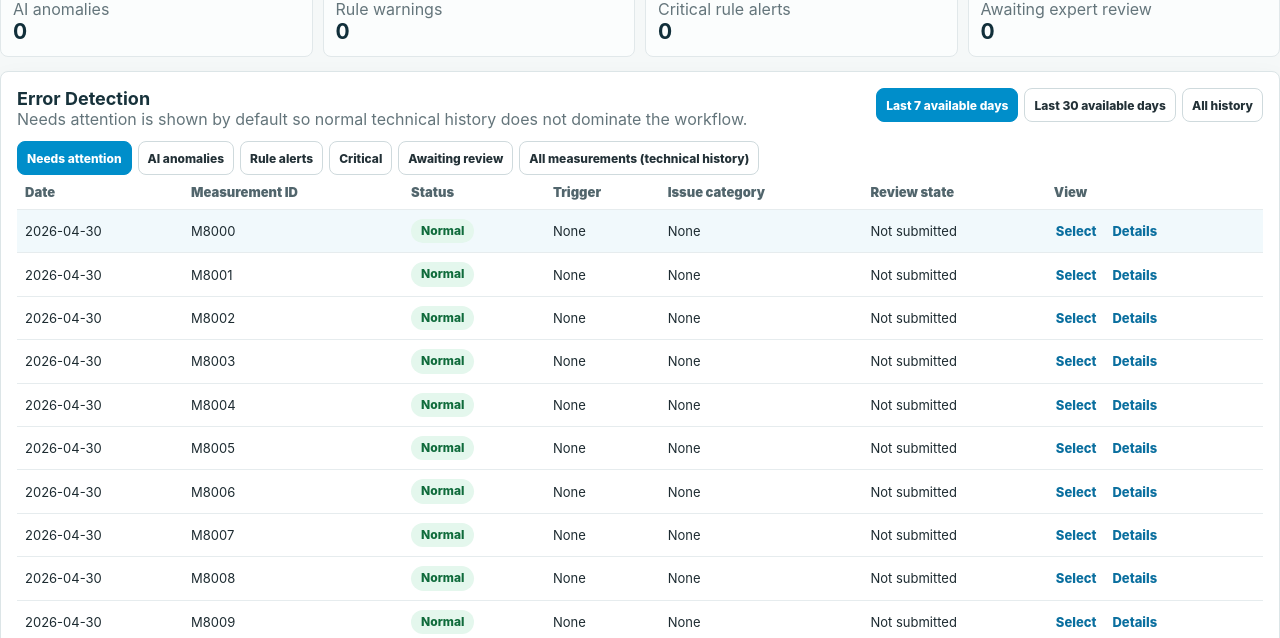
Scenario: analyze drawer and anomaly list › keeps Details correct after pagination and filter changes
Click the button "Details" in the row of "M8000" at (1135, 231), box [1110, 220, 1159, 242]
(page scrolled)
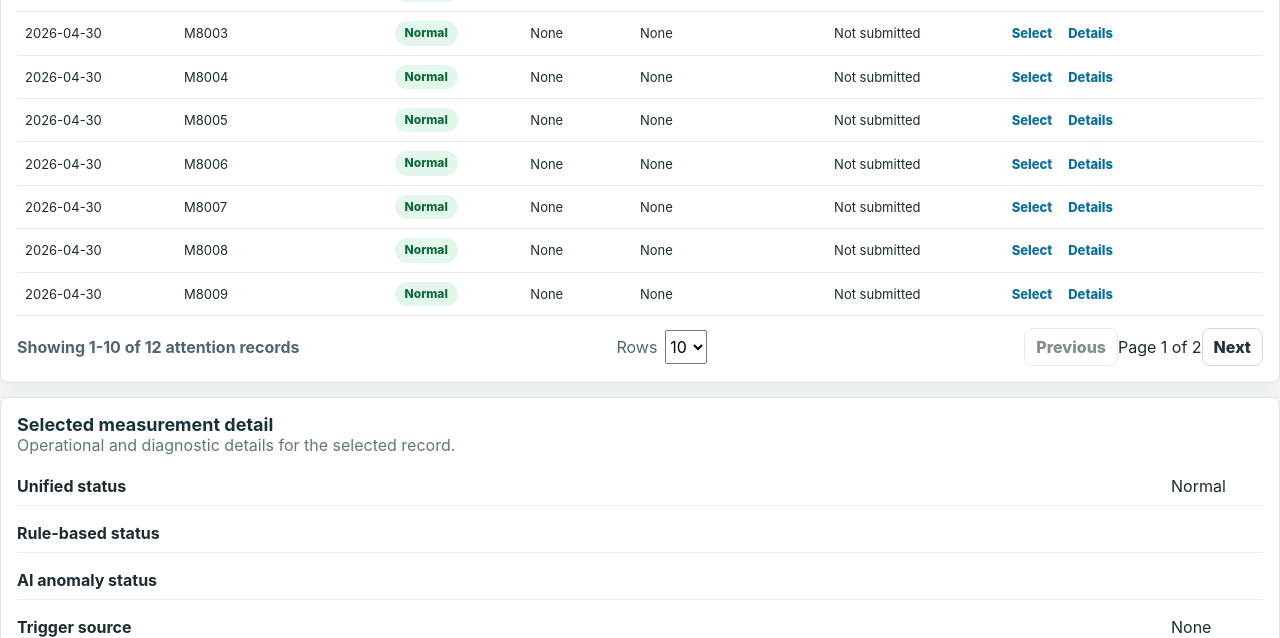
Click the button "Next" at (1232, 347), box [1202, 328, 1263, 366]
(page scrolled)
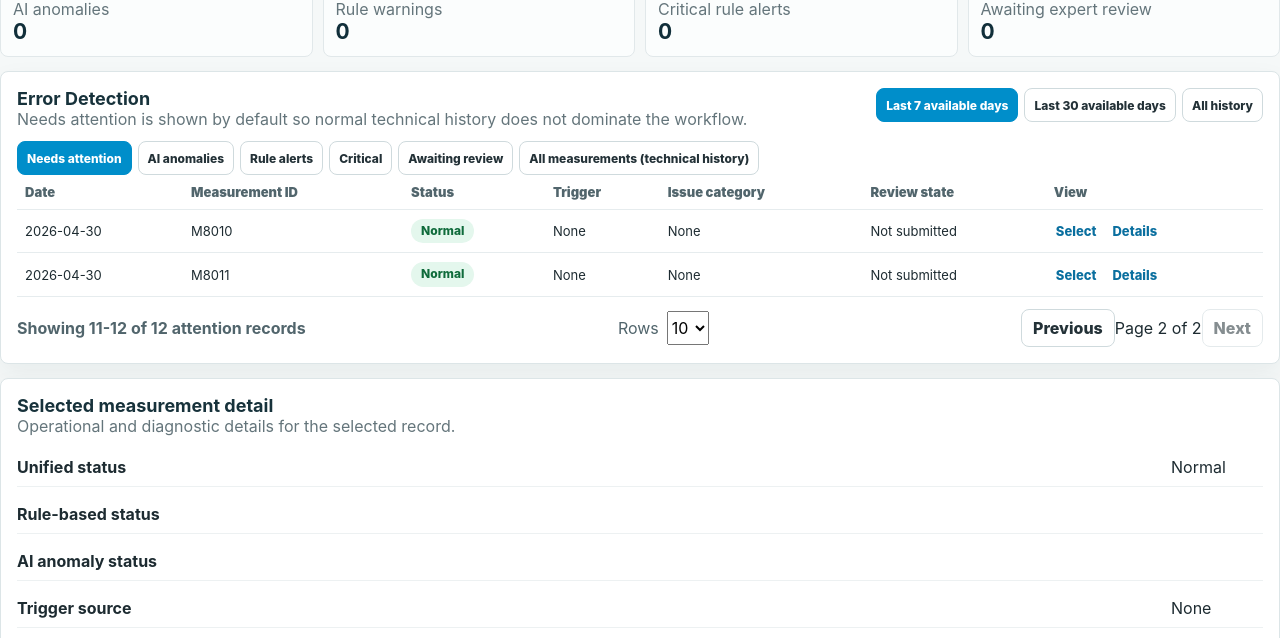
Click the button "Details" in the row of "M8010" at (1135, 231), box [1110, 220, 1159, 242]
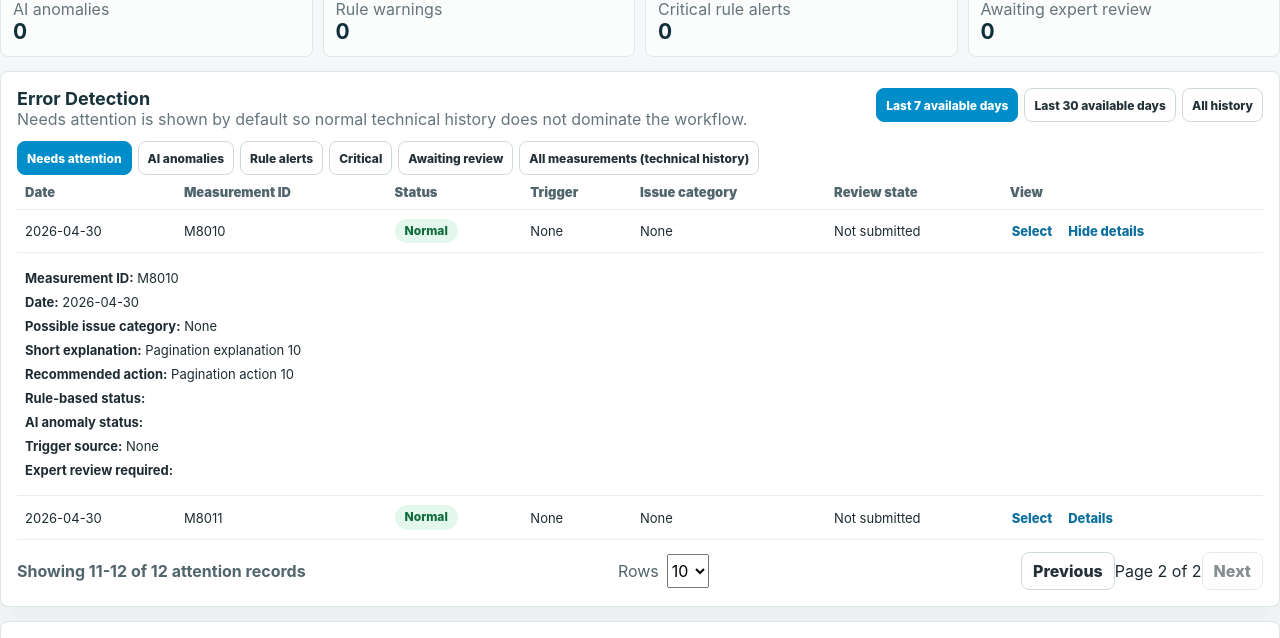
Result: the text "Pagination explanation 10" is shown at [145, 342, 301, 358]
